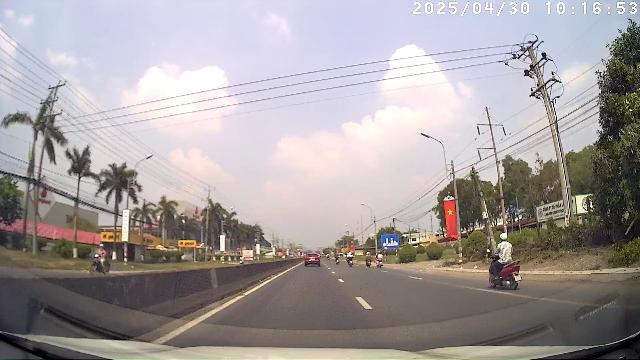421-ket-thuc-khu-dong-dan-cu: (381, 234, 399, 248)
